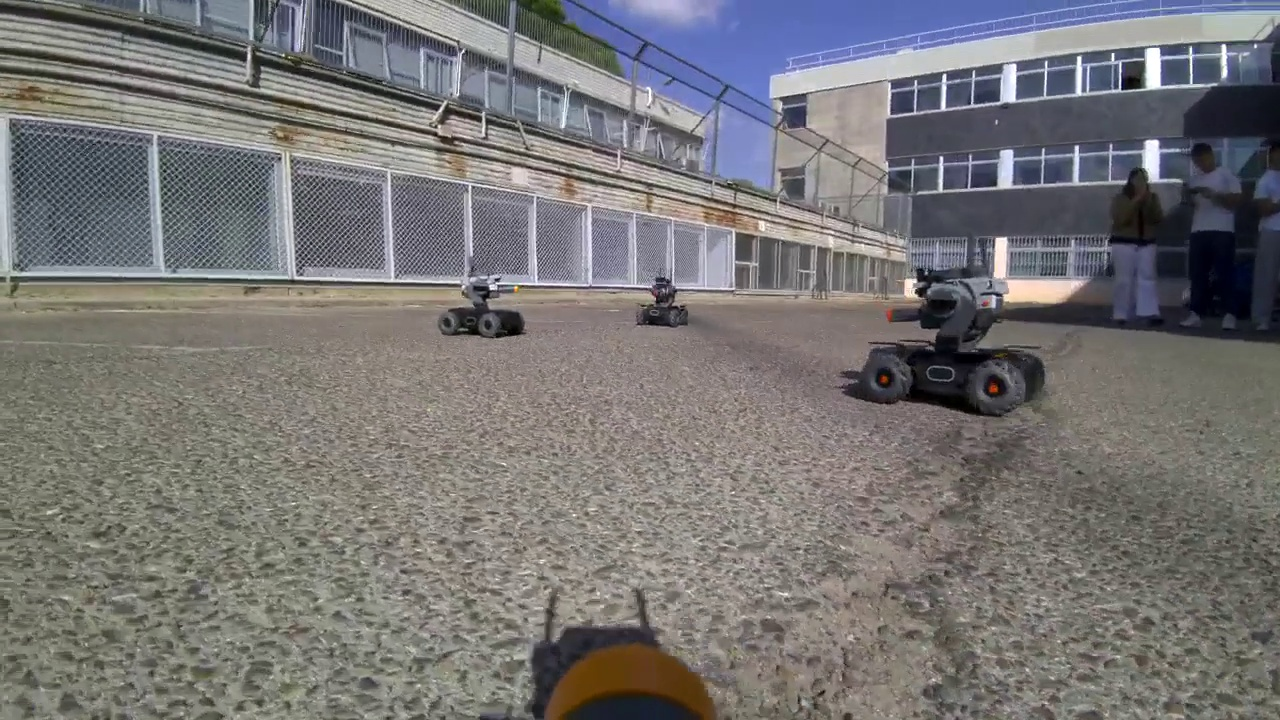robot: (855, 253, 1044, 420), (437, 261, 530, 347), (635, 271, 688, 335)
